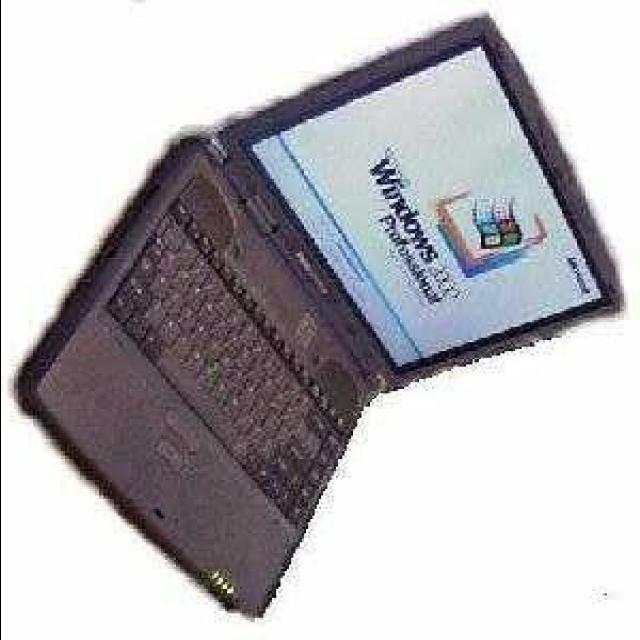laptop: (6, 0, 630, 610)
